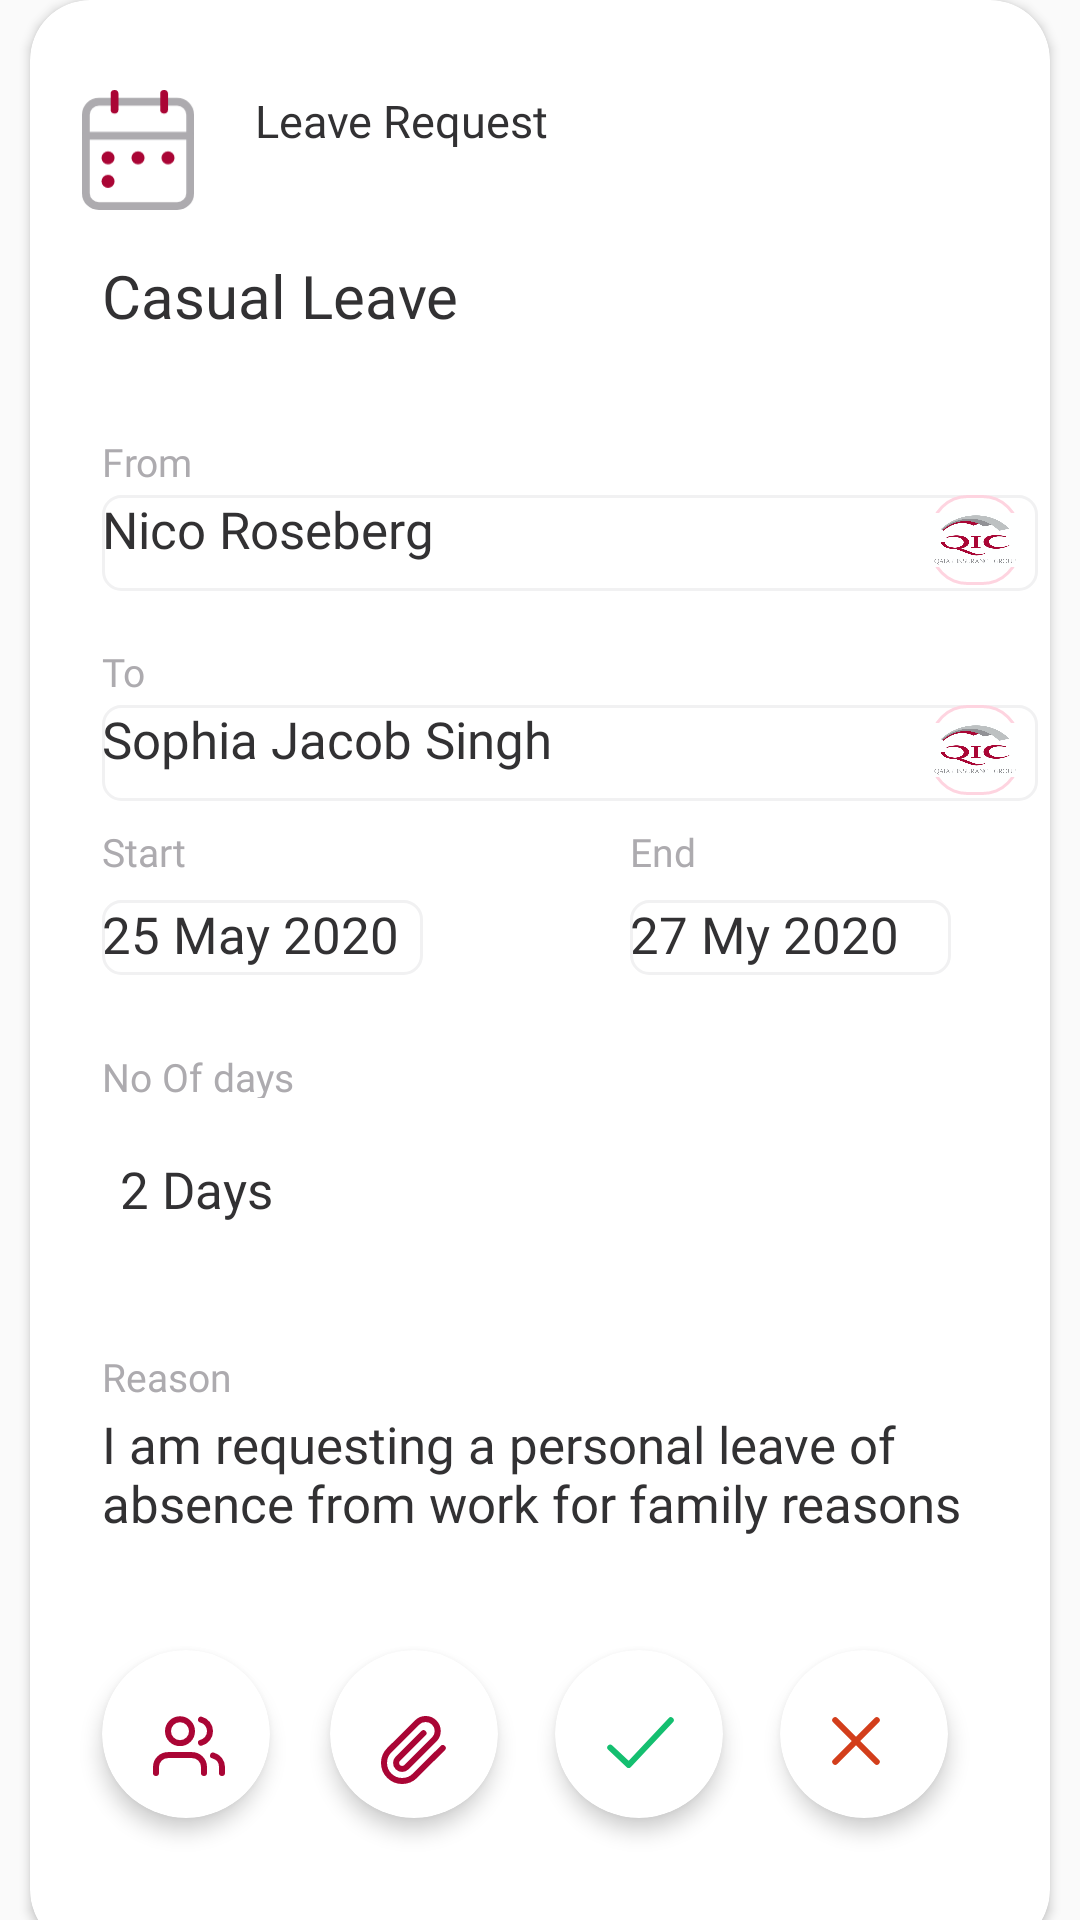

Named icons in this screenshot (1080 × 1920) and their bounding boxes, (x1, y1, x2, y2):
approve: (607, 1717, 674, 1768)
approvers: (153, 1716, 225, 1776)
decline: (832, 1717, 880, 1765)
documents: (381, 1716, 446, 1784)
